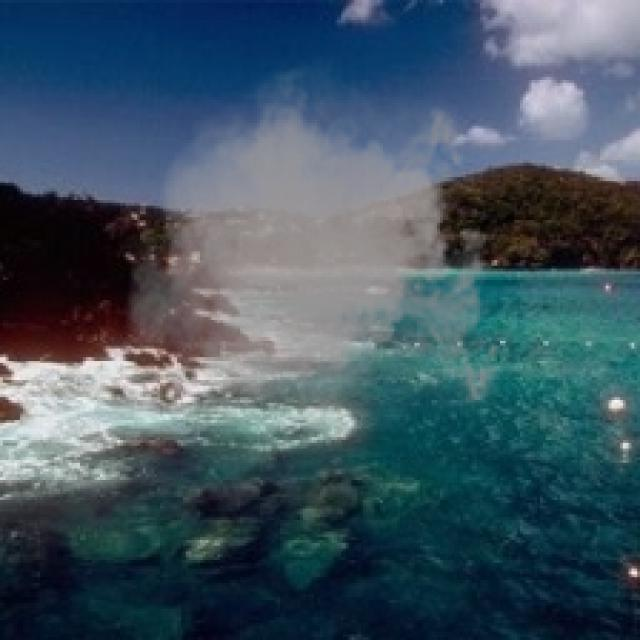smoke: (120, 46, 511, 466)
